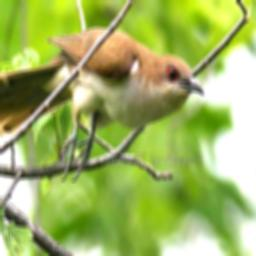Cuckoo: (0, 27, 205, 181)
